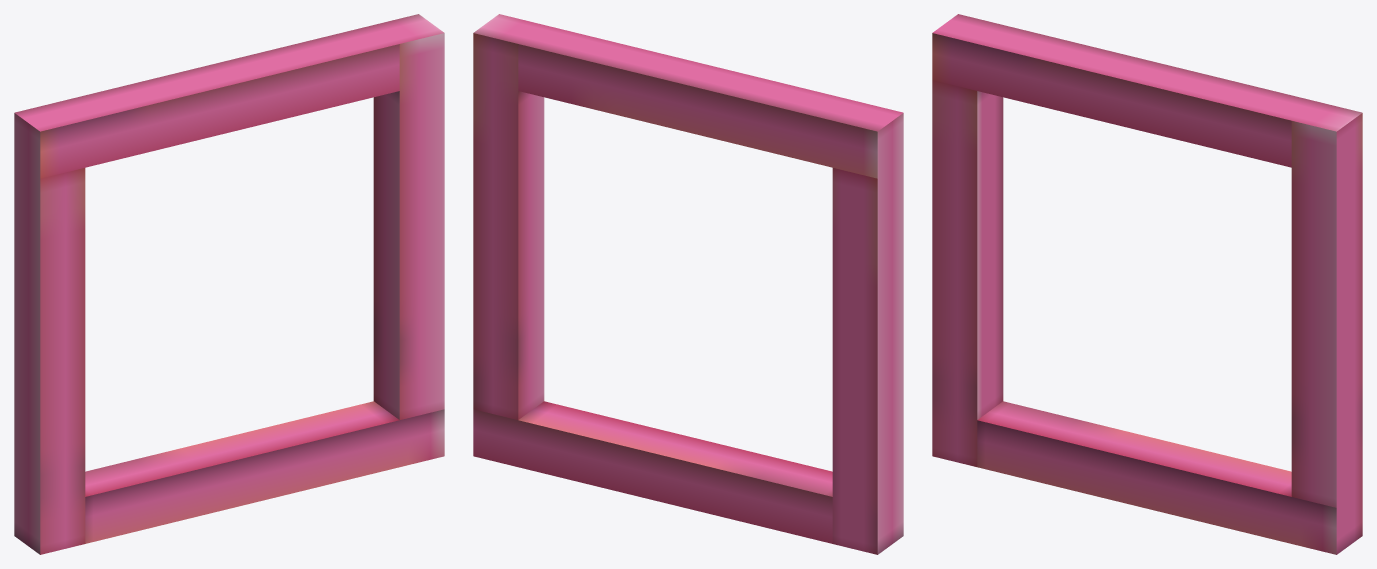
File: Matrix_6.dae
The picture shows the model from 3 angles, left to right: view 1: azimuth 30°, elevation 25°; view 2: azimuth 150°, elevation 25°; view 3: azimuth 330°, elevation 25°; orthographic projection.
Visible parts, largest first — view 1: Matrix_6; view 2: Matrix_6; view 3: Matrix_6.
Part boxes in pixels (x1,y1,x2,y2): Matrix_6: (14,14,444,554); Matrix_6: (473,14,903,554); Matrix_6: (932,14,1362,554).
Bounding box in the file's own units: 9 × 9 × 1.
